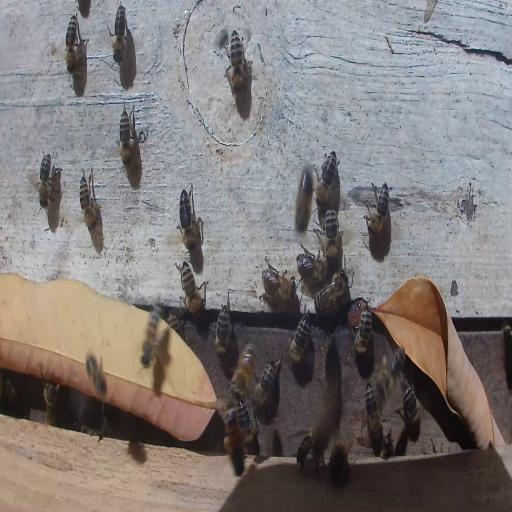bee: (373, 343, 406, 399), (222, 408, 247, 478), (313, 269, 351, 312), (177, 260, 204, 317), (253, 356, 282, 408), (179, 185, 201, 252), (294, 429, 326, 475), (365, 181, 391, 236), (315, 149, 339, 208), (140, 308, 164, 366), (78, 172, 99, 234), (351, 302, 373, 361), (400, 376, 424, 430), (262, 265, 292, 307), (288, 309, 311, 363), (297, 247, 330, 283), (233, 345, 257, 393), (329, 436, 352, 486), (318, 209, 341, 258), (296, 164, 312, 234), (118, 104, 133, 175), (228, 29, 244, 95), (364, 381, 382, 439), (111, 3, 127, 64), (64, 13, 80, 74), (235, 402, 257, 446), (214, 302, 231, 358), (85, 353, 105, 399), (39, 150, 53, 210), (44, 379, 59, 427), (380, 429, 393, 458), (2, 378, 16, 404)
